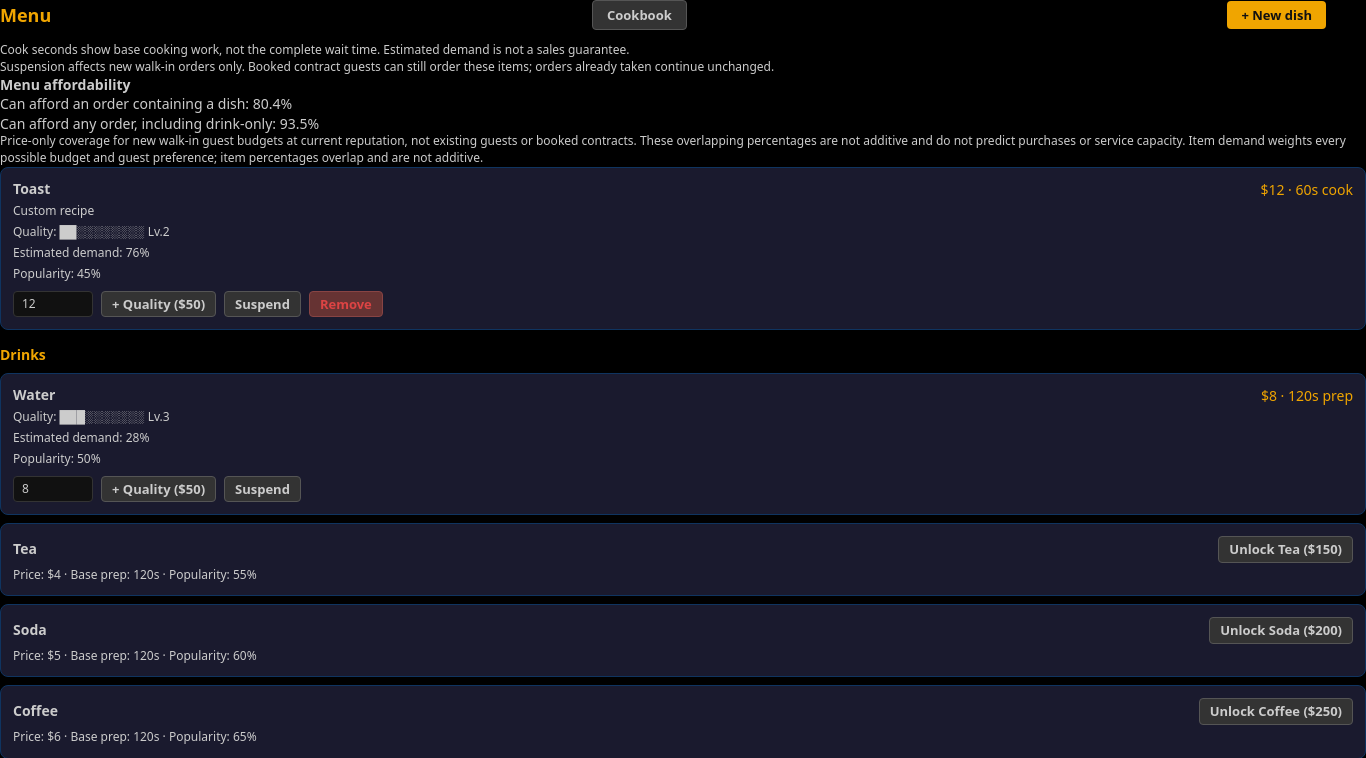
Test: MenuPanel drinks › browses the cookbook child and returns without losing creator or drink controls
The image size is (1366, 758).
Click the button "Cookbook": (639,15) top-left (592, 0), bottom-right (687, 30)
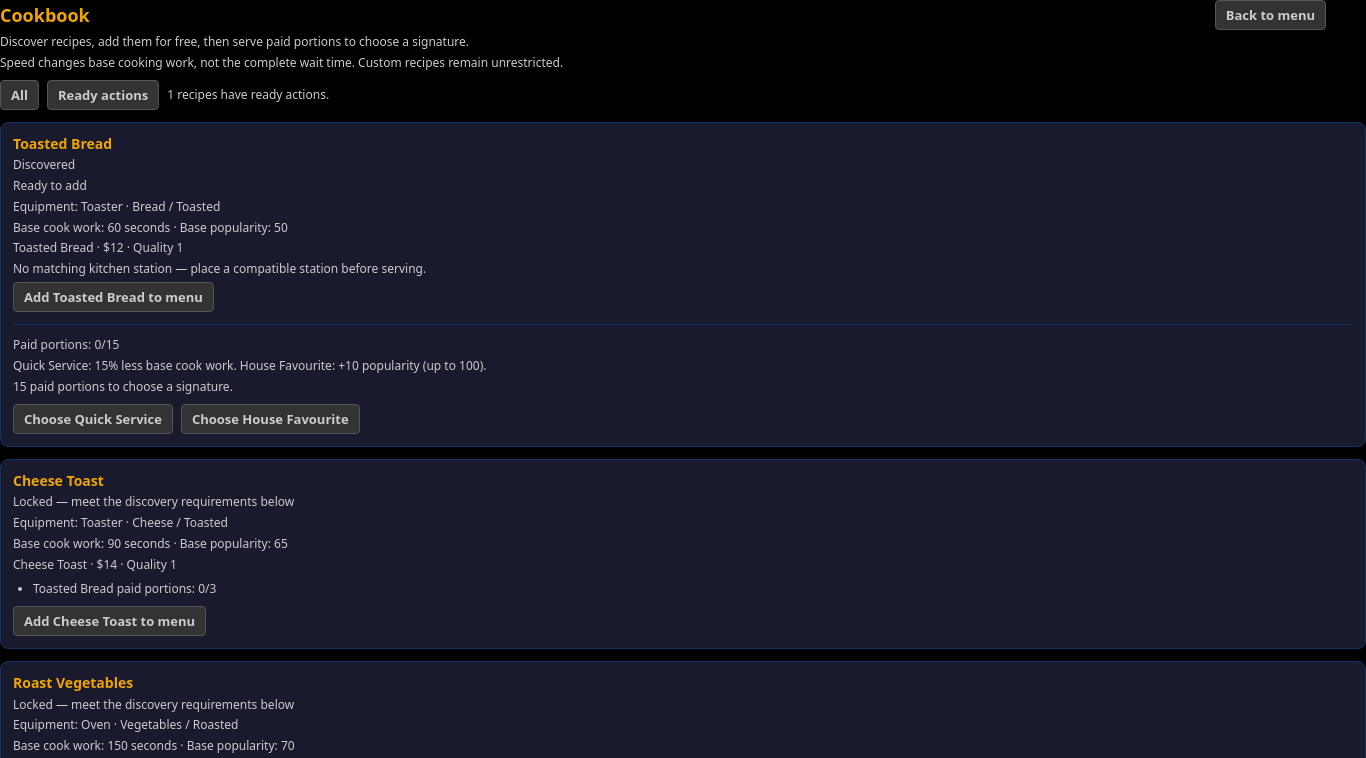
Result: the heading "Cookbook" is shown at top-left (0, 4), bottom-right (90, 26)
Result: the heading "Menu affordability" is gone
Click the button "Back to menu": (1270,15) top-left (1215, 0), bottom-right (1326, 30)
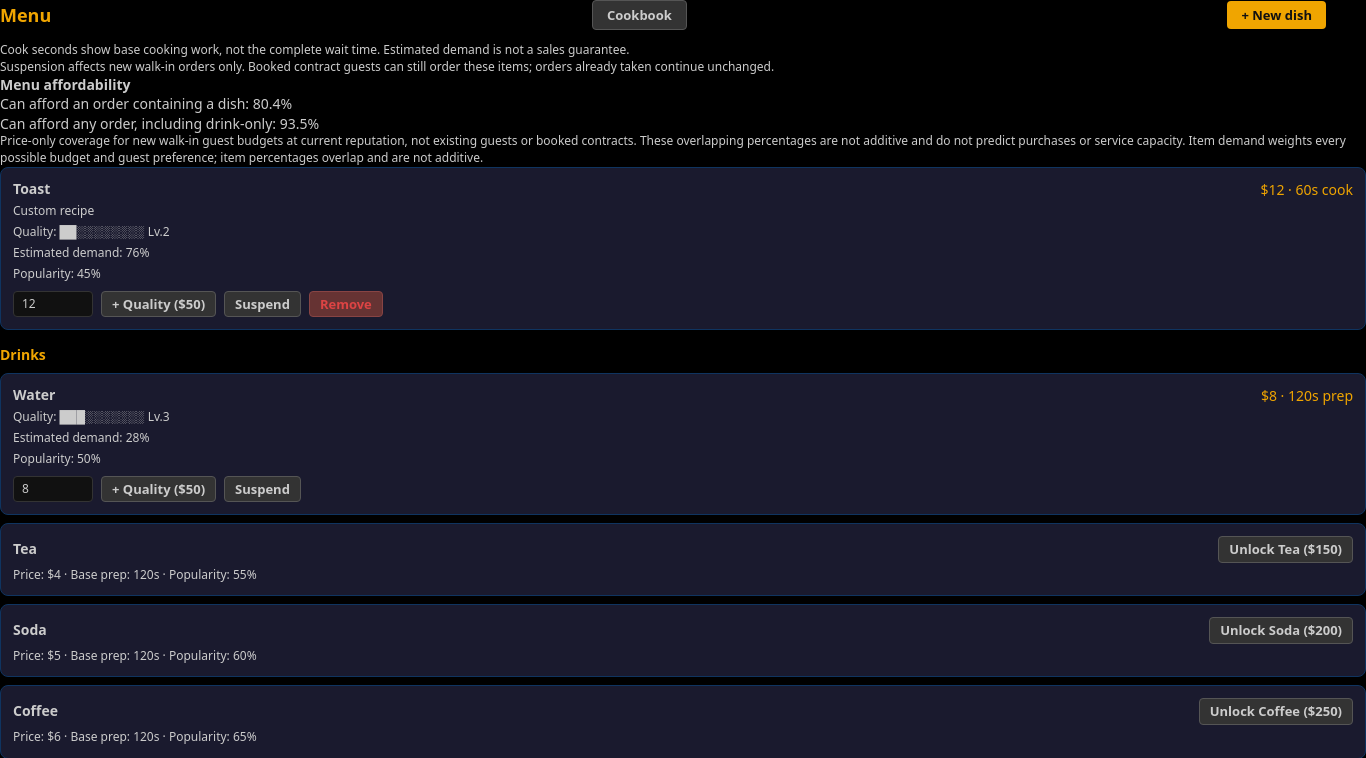
Result: the number field named "Water price" is enabled at top-left (13, 476), bottom-right (93, 502)
Result: the element "Menu affordability" is shown at top-left (0, 76), bottom-right (1365, 167)
Click the button "+ New dish": (1277,15) top-left (1228, 1), bottom-right (1326, 29)
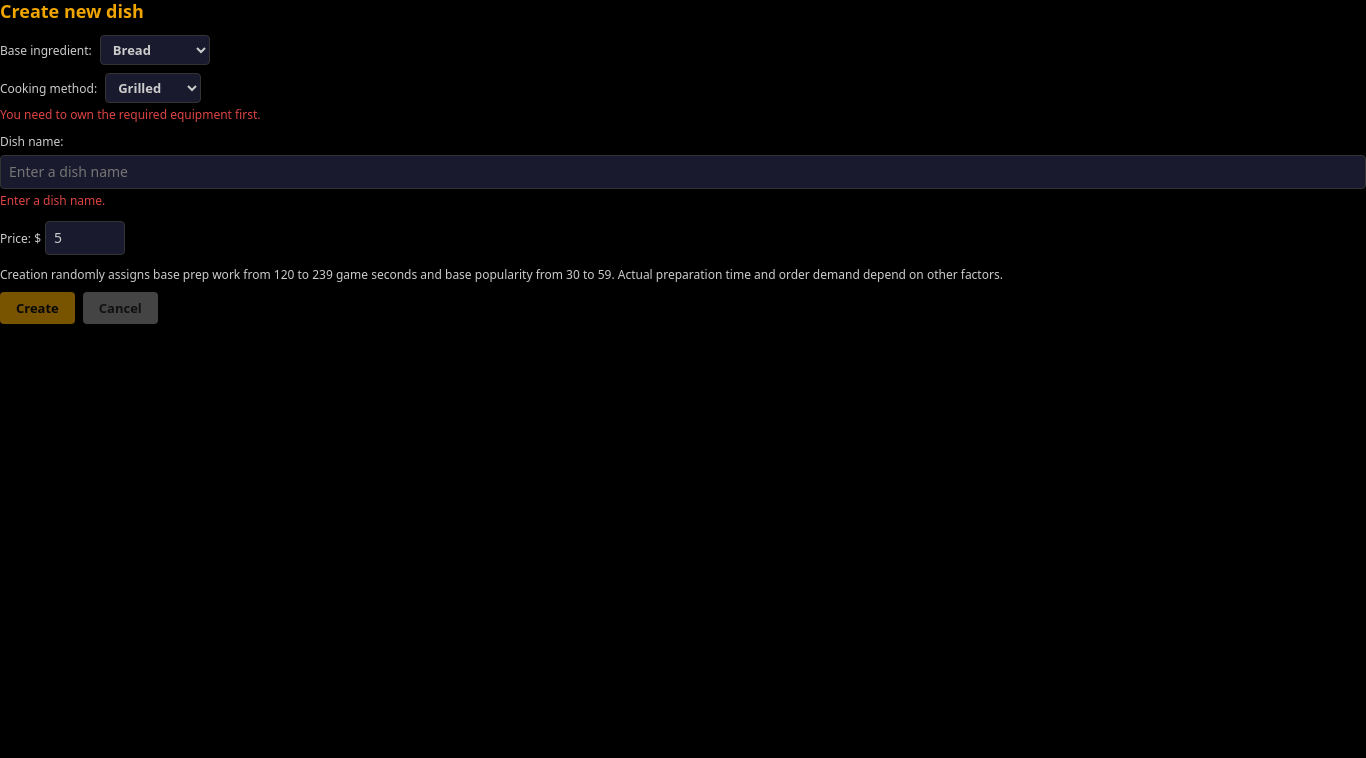
Result: the heading "Create new dish" is shown at top-left (0, 0), bottom-right (144, 23)
